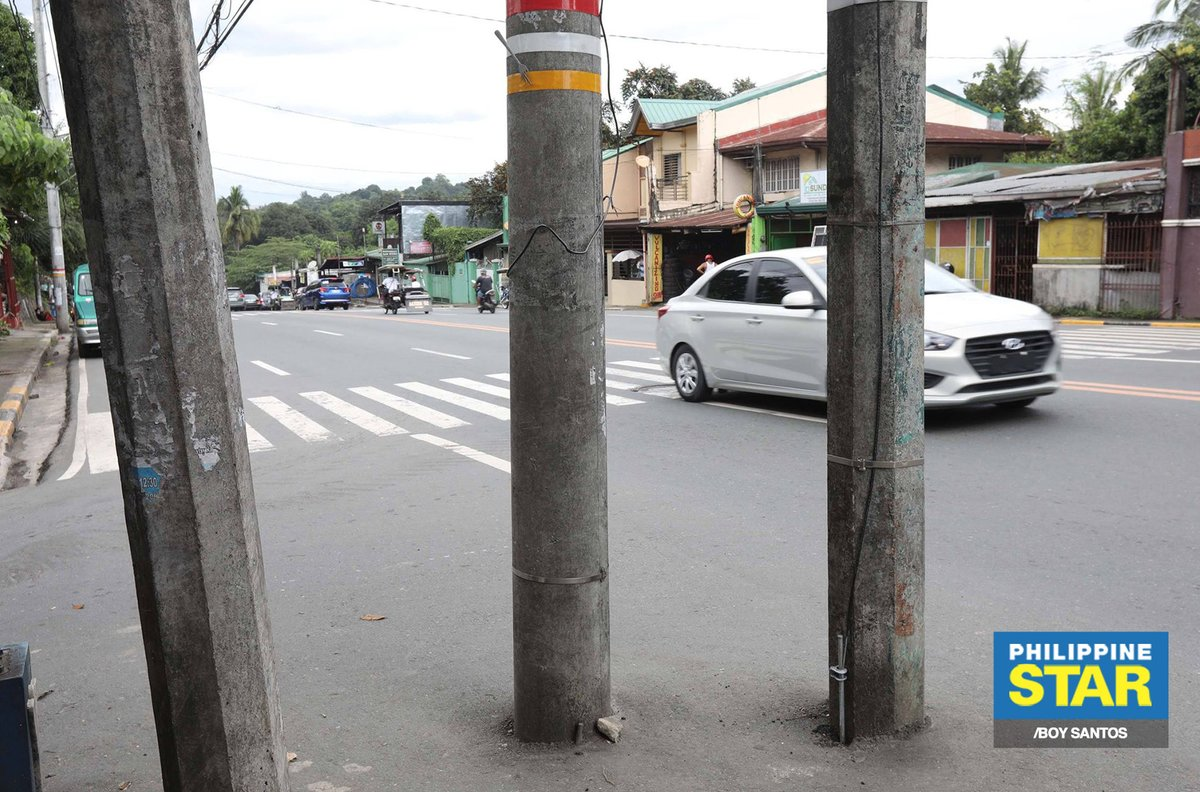car: (646, 245, 1065, 421)
pedestrian lane: (63, 351, 696, 473), (1060, 321, 1196, 362)
pole: (49, 2, 319, 792), (504, 4, 606, 748), (827, 4, 920, 721)
